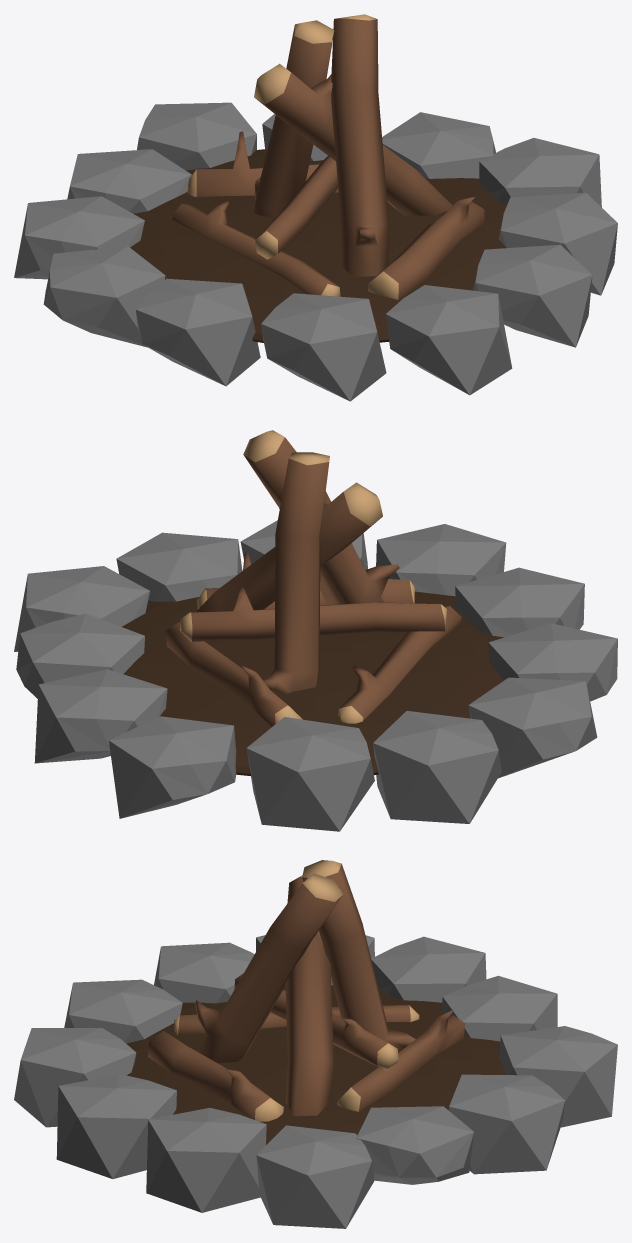
File: campfire.gltf
3 views of the same model, one above another, from view 1: azimuth 30°, elevation 25°; view 2: azimuth 150°, elevation 25°; view 3: azimuth 270°, elevation 25° (orthographic). The views are drawn at different scales.
Parts seen in each view (by area): view 1: Rock1.005, Branch.002, Sphere; view 2: Rock1.005, Branch.002, Sphere; view 3: Rock1.005, Branch.002, Sphere.
Boxes of the visible parts, bbox=[...] form: Rock1.005: bbox=[14, 102, 617, 401]; Branch.002: bbox=[171, 14, 484, 299]; Sphere: bbox=[130, 149, 506, 342]; Rock1.005: bbox=[14, 520, 617, 831]; Branch.002: bbox=[165, 430, 461, 726]; Sphere: bbox=[122, 591, 503, 775]; Rock1.005: bbox=[14, 935, 617, 1228]; Branch.002: bbox=[148, 860, 464, 1121]; Sphere: bbox=[126, 985, 505, 1144].
Bounding box in the file's own units: 6.25 × 2.89 × 6.27.
